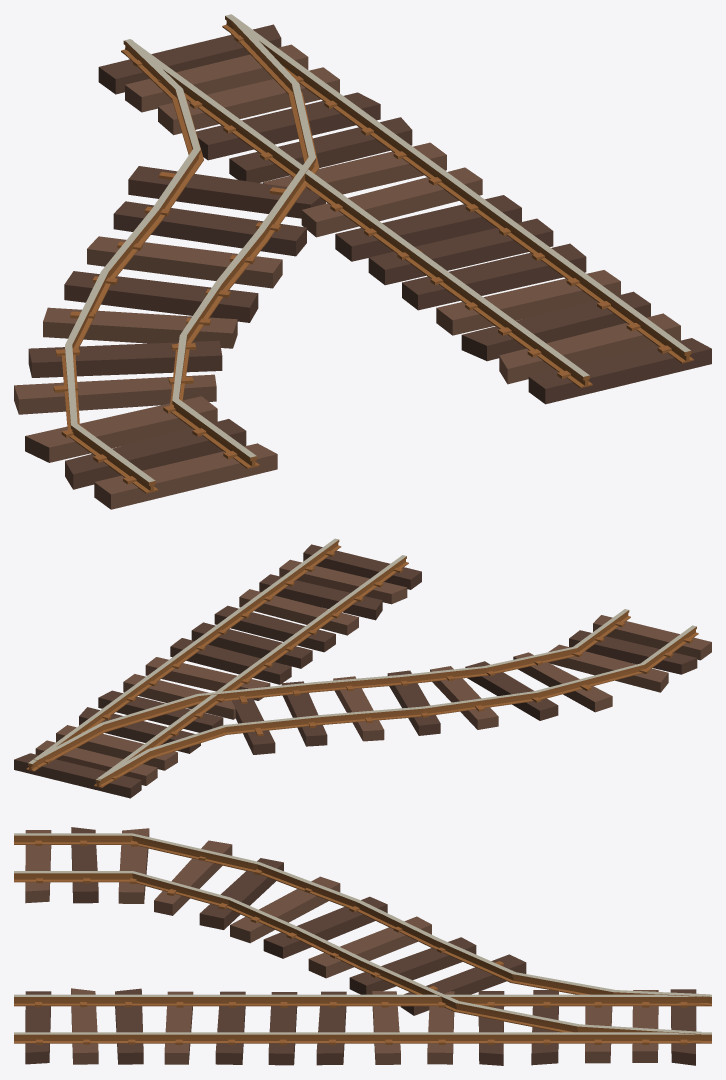
File: Train Track 11 M Fork V02.glb
3 renders of one model, top to bottom at view 1: azimuth 30°, elevation 25°; view 2: azimuth 150°, elevation 25°; view 3: azimuth 270°, elevation 25°, orthographic. The views are drawn at different scales.
Visible parts, largest first — view 1: Train Track 11 M Fork v02; view 2: Train Track 11 M Fork v02; view 3: Train Track 11 M Fork v02.
Boxes of the visible parts, <box> form: Train Track 11 M Fork v02: <box>14,14,711,509</box>; Train Track 11 M Fork v02: <box>14,538,711,798</box>; Train Track 11 M Fork v02: <box>14,827,711,1065</box>.
Size of what is drawn, in the model's own units: 8.46 by 0.3452 by 11.
Materials: 1 (1 with a texture image).
